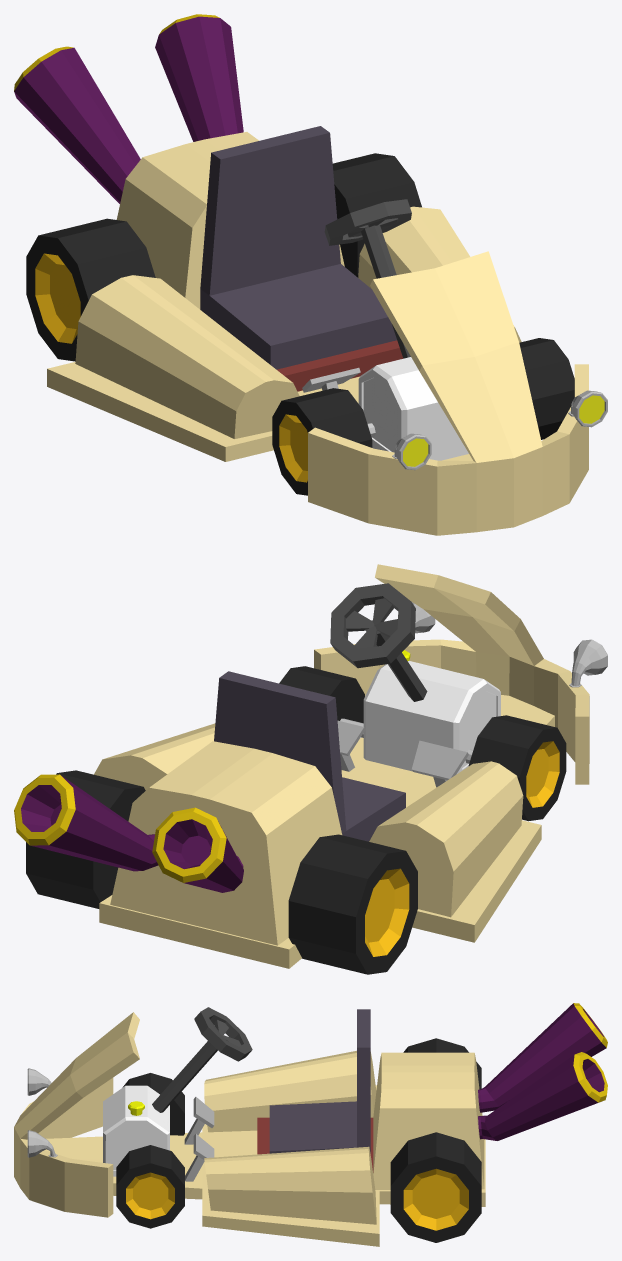
File: SourLemonKart.glb
3 views of the same model, one above another, from view 1: azimuth 30°, elevation 25°; view 2: azimuth 150°, elevation 25°; view 3: azimuth 270°, elevation 25° (orthographic). The views are drawn at different scales.
Visible parts, largest first — view 1: KartPlataform1, Hood1, Chair1, Catalysts1, Wheel_BR, Wheel_FR, Wheel_BL, Wheel_FL, SteeringWheel1, Lights_Kart1, Pedals1; view 2: KartPlataform1, Hood1, Wheel_BR, Catalysts1, Chair1, SteeringWheel1, Wheel_FR, Wheel_BL, Pedals1, Wheel_FL, Lights_Kart1; view 3: KartPlataform1, Hood1, Catalysts1, Wheel_BL, Chair1, Wheel_FL, SteeringWheel1, Pedals1, Wheel_FR, Lights_Kart1, Wheel_BR.
Part boxes in pixels (x1,y1,x2,y2): KartPlataform1: (47, 132, 521, 461); Hood1: (308, 251, 588, 535); Chair1: (200, 126, 403, 391); Catalysts1: (14, 14, 243, 203); Wheel_BR: (26, 218, 155, 361); Wheel_FR: (272, 388, 372, 495); Wheel_BL: (332, 153, 421, 277); Wheel_FL: (519, 338, 574, 439); SteeringWheel1: (324, 199, 411, 358); Lights_Kart1: (392, 390, 607, 470); Pedals1: (302, 367, 360, 392); KartPlataform1: (94, 650, 554, 968); Hood1: (314, 564, 589, 784); Wheel_BR: (288, 834, 417, 974); Catalysts1: (14, 774, 243, 892); Chair1: (214, 671, 405, 841); SteeringWheel1: (330, 583, 427, 701); Wheel_FR: (468, 715, 566, 821); Wheel_BL: (26, 770, 145, 908); Pedals1: (337, 720, 468, 787); Wheel_FL: (279, 666, 364, 723); Lights_Kart1: (412, 602, 607, 687); KartPlataform1: (45, 1050, 485, 1246); Hood1: (14, 1012, 139, 1217); Catalysts1: (478, 1003, 607, 1140); Wheel_BL: (390, 1132, 481, 1242); Chair1: (257, 1009, 373, 1172); Wheel_FL: (116, 1145, 184, 1228); SteeringWheel1: (152, 1007, 252, 1112); Pedals1: (184, 1097, 214, 1181); Wheel_FR: (122, 1073, 184, 1135); Lights_Kart1: (27, 1068, 57, 1157); Wheel_BR: (403, 1038, 481, 1089).
Size of the model in its own units: 10.53 by 5.62 by 17.74.
